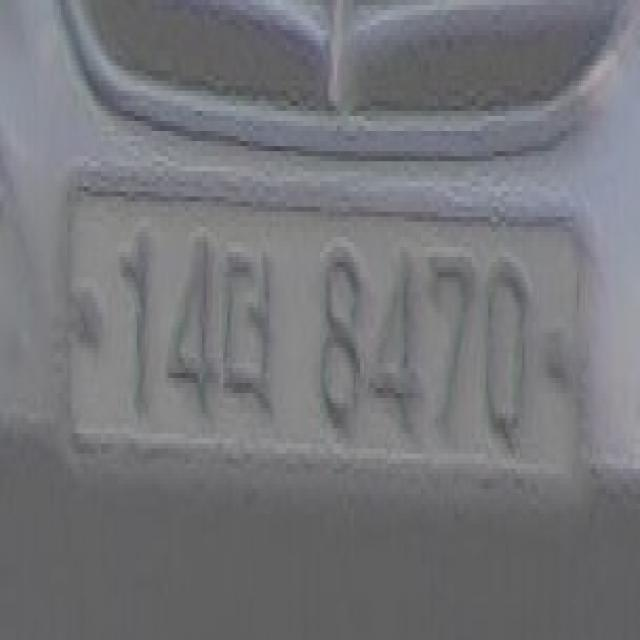0: (480, 247, 537, 474)
1: (116, 222, 158, 438)
4: (366, 237, 432, 469), (166, 226, 219, 458)
7: (423, 232, 478, 468)
8: (310, 237, 368, 448)
deo: (219, 222, 280, 443)
license_plate: (61, 166, 590, 529)
